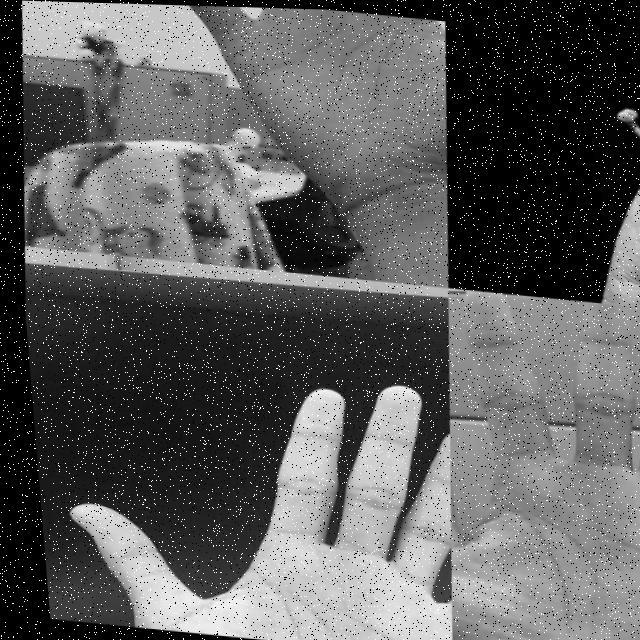no-gloves: (38, 349, 459, 640), (417, 284, 640, 640), (133, 3, 456, 202), (544, 118, 640, 304)
